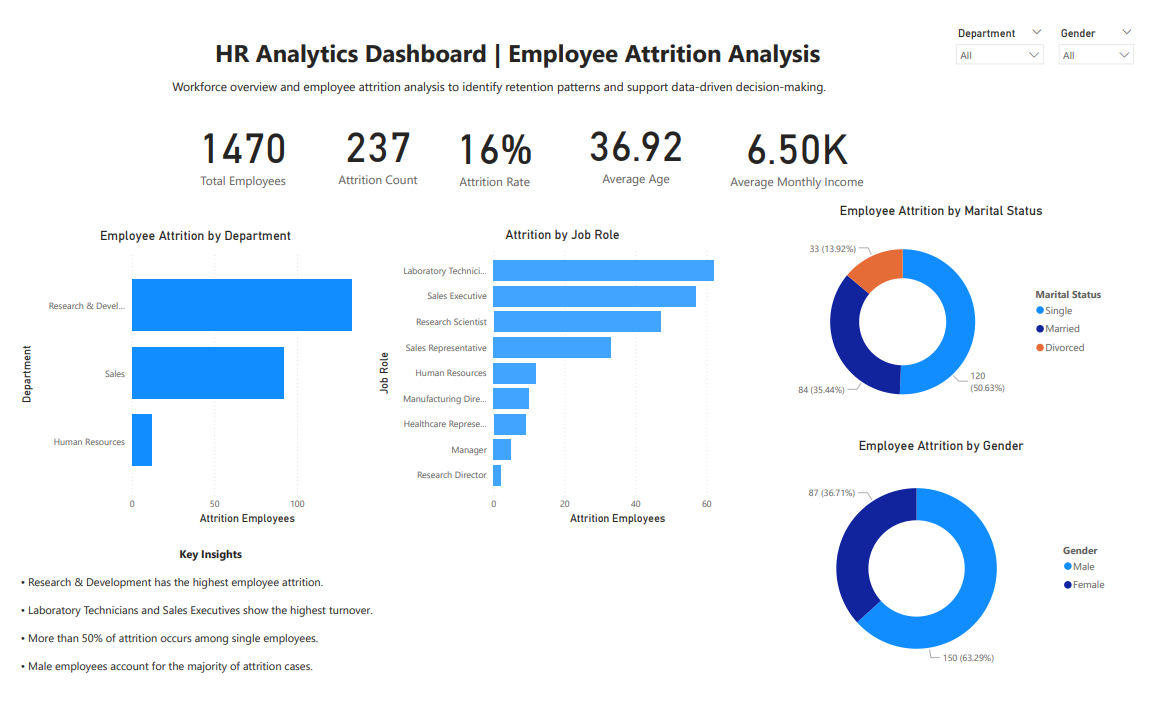

This screenshot's page, from the dashboard's own definition file:
{"tool":"powerbi","page":{"name":"Page 1","canvas":[1280,720],"ordinal":0},"visuals":[{"type":"card","fields":{"Values":["KPIs.Attrition Count"]},"box":[161.9,81,170,178.1],"z":1000},{"type":"card","fields":{"Values":["KPIs.Attrition Rate"]},"box":[306,93.9,189.4,152.2],"z":2000},{"type":"card","fields":{"Values":["KPIs.Average Age"]},"box":[464.7,79.3,210.5,179.7],"z":3000},{"type":"card","fields":{"Values":["KPIs.Average Monthly Income"]},"box":[655.8,76.1,217,183],"z":4000},{"type":"clusteredBarChart","title":"Department Attrition","fields":{"Category":["HR.Department"],"Y":["KPIs.Attrition Employees"]},"box":[0,289.8,464.7,365.9],"z":5000},{"type":"clusteredBarChart","title":"Attrition by Job Role","fields":{"Category":["HR.JobRole"],"Y":["KPIs.Attrition Employees"]},"box":[464.7,289.8,424.2,387],"z":6000},{"type":"textbox","box":[232.4,28.3,789.9,75.6],"z":7000},{"type":"card","fields":{"Values":["KPIs.Total Employees"]},"box":[0,81,161.9,178.1],"z":8000},{"type":"donutChart","title":"Attrition by Gender","fields":{"Category":["HR.Gender"],"Y":["KPIs.Attrition Employees"]},"box":[889,425.9,377.3,294.7],"z":8001},{"type":"donutChart","title":"Attrition by Marital Status","fields":{"Category":["HR.MaritalStatus"],"Y":["KPIs.Attrition Employees"]},"box":[889,105.2,377.3,306],"z":8002}]}

Visuals, with their boxes on the page's 1280x720 design canvas (x1, y1, x2, y2). These are canvas units, not pixel positions in the 1156x709 screenshot, which may show the page scaled, cropped or inside an application window:
card - KPIs.Attrition Count: [x1=162, y1=81, x2=332, y2=259]
card - KPIs.Attrition Rate: [x1=306, y1=94, x2=495, y2=246]
card - KPIs.Average Age: [x1=465, y1=79, x2=675, y2=259]
card - KPIs.Average Monthly Income: [x1=656, y1=76, x2=873, y2=259]
"Department Attrition" clusteredBarChart: [x1=0, y1=290, x2=465, y2=656]
"Attrition by Job Role" clusteredBarChart: [x1=465, y1=290, x2=889, y2=677]
textbox: [x1=232, y1=28, x2=1022, y2=104]
card - KPIs.Total Employees: [x1=0, y1=81, x2=162, y2=259]
"Attrition by Gender" donutChart: [x1=889, y1=426, x2=1266, y2=721]
"Attrition by Marital Status" donutChart: [x1=889, y1=105, x2=1266, y2=411]
